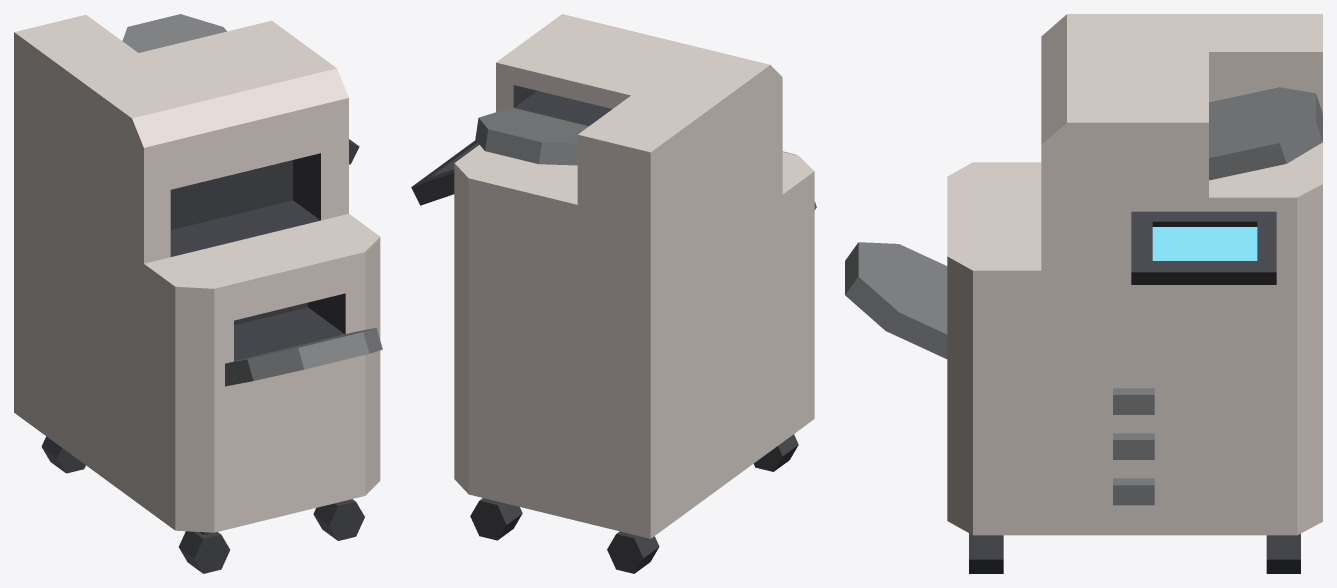
The model's file is bigprinter2BROKEN.fbx.
3 views of the same model, side by side, from view 1: azimuth 30°, elevation 25°; view 2: azimuth 150°, elevation 25°; view 3: azimuth 270°, elevation 25° (orthographic). The views are drawn at different scales.
Parts seen in each view (by area): view 1: printer1.002; view 2: printer1.002; view 3: printer1.002.
Part boxes in pixels (bbox=[...]): printer1.002: bbox=[14, 14, 382, 573]; printer1.002: bbox=[411, 14, 816, 573]; printer1.002: bbox=[845, 14, 1322, 573].
Size of the model in its own units: 111 by 177 by 164.
